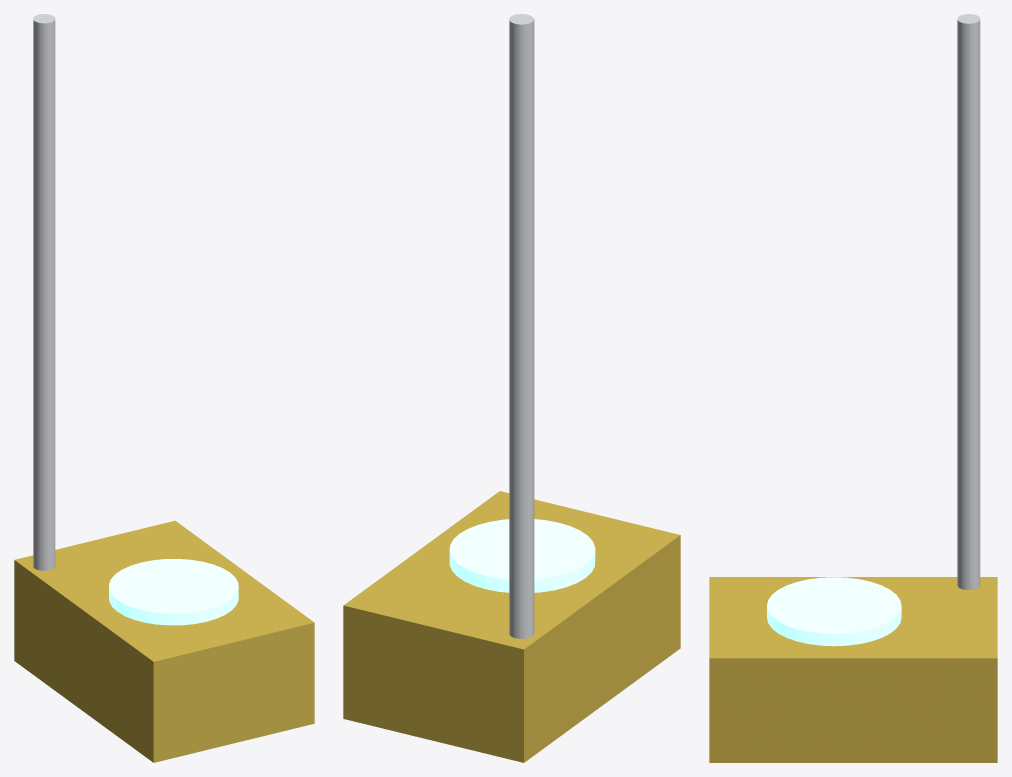
The model's file is SM_Signal_Analyzer.fbx.
3 renders of one model, left to right at view 1: azimuth 30°, elevation 25°; view 2: azimuth 150°, elevation 25°; view 3: azimuth 270°, elevation 25°, orthographic. The views are drawn at different scales.
Parts seen in each view (by area): view 1: SM_Signal_Analyzer; view 2: SM_Signal_Analyzer; view 3: SM_Signal_Analyzer.
Part boxes in pixels (x1=…): SM_Signal_Analyzer: x1=14, y1=14, x2=314, y2=762; SM_Signal_Analyzer: x1=343, y1=14, x2=680, y2=762; SM_Signal_Analyzer: x1=709, y1=14, x2=997, y2=762.
Bounding box in the file's own units: 0.1 × 0.385 × 0.15.
